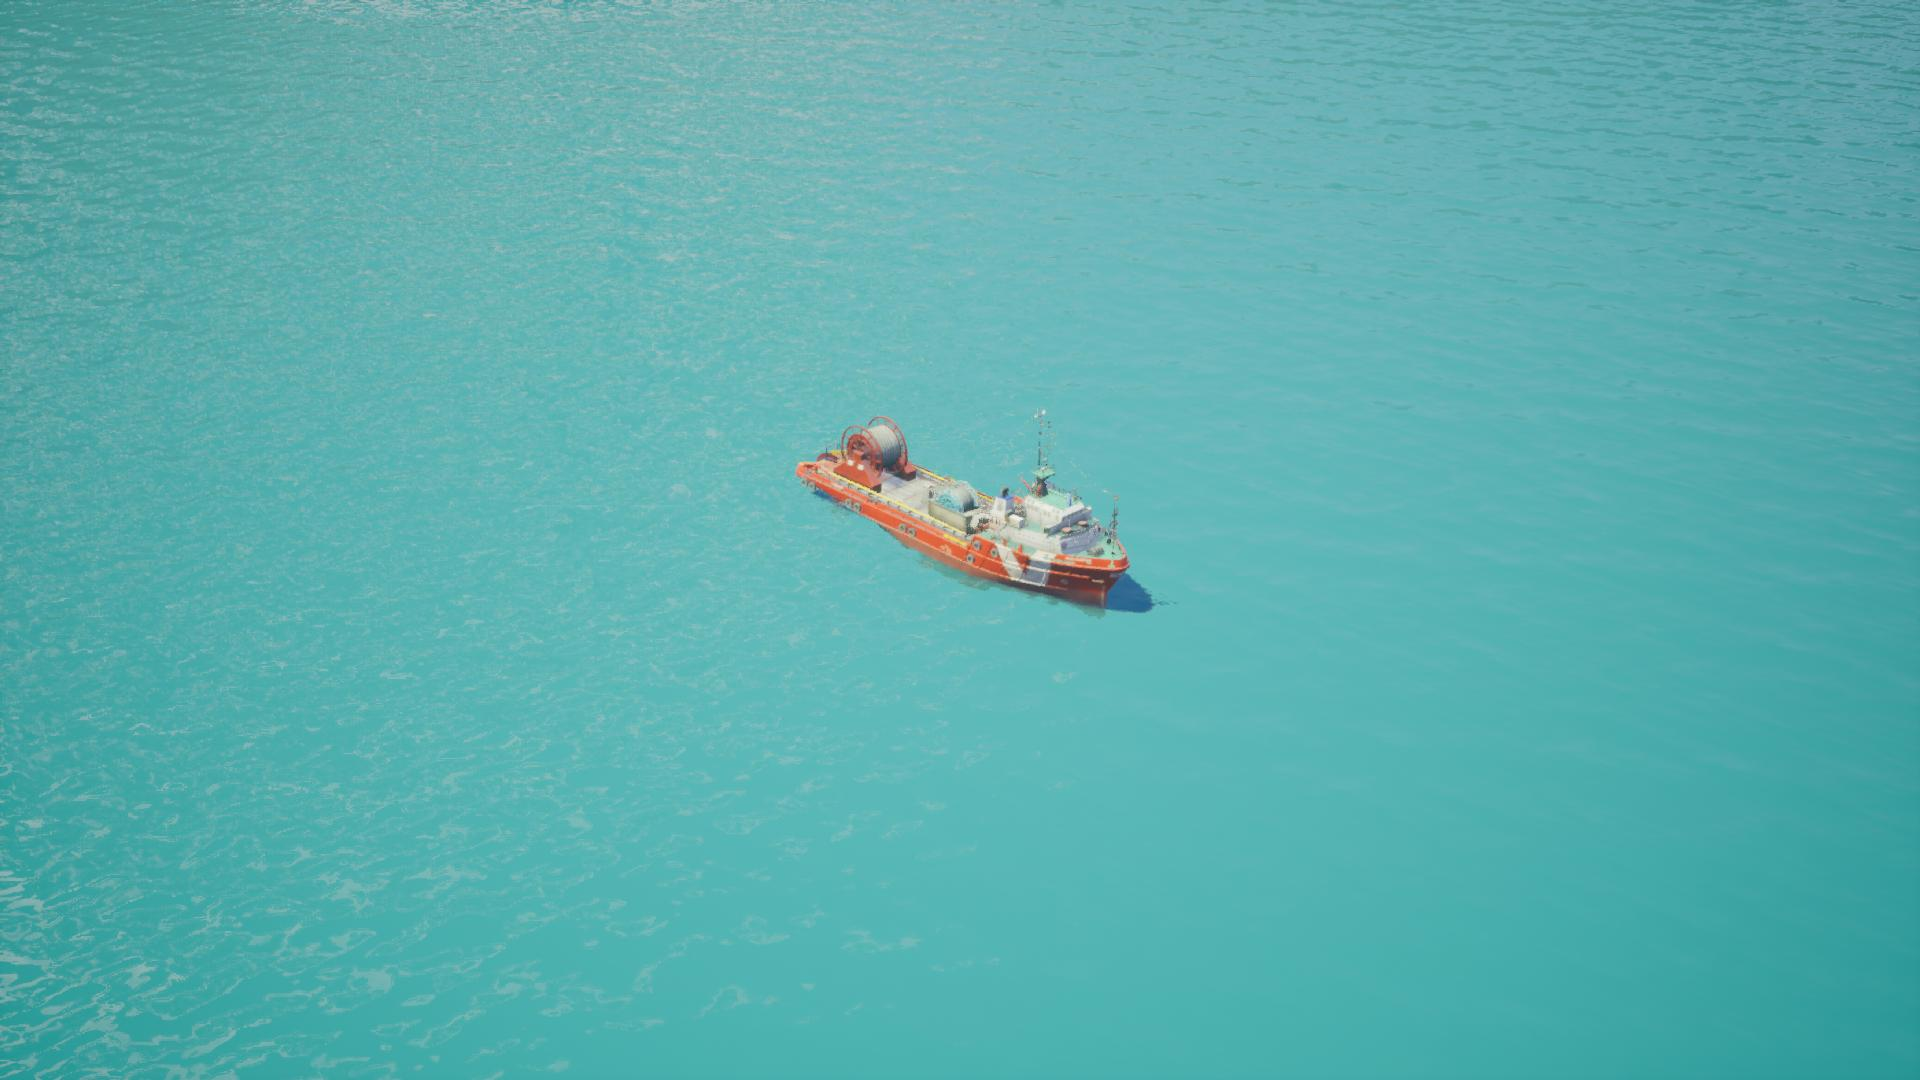Tug Boat: (805, 350, 1197, 643)
